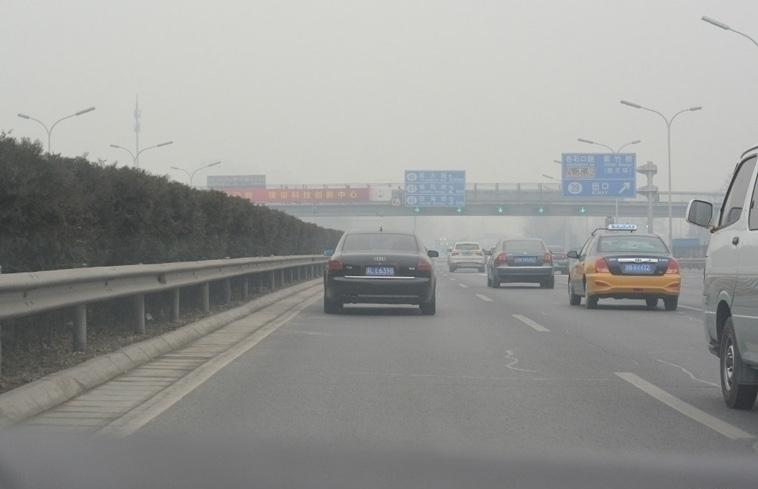car: (685, 145, 758, 410), (322, 223, 441, 315), (565, 223, 681, 309), (481, 236, 554, 289), (444, 241, 485, 274), (534, 243, 568, 274)
